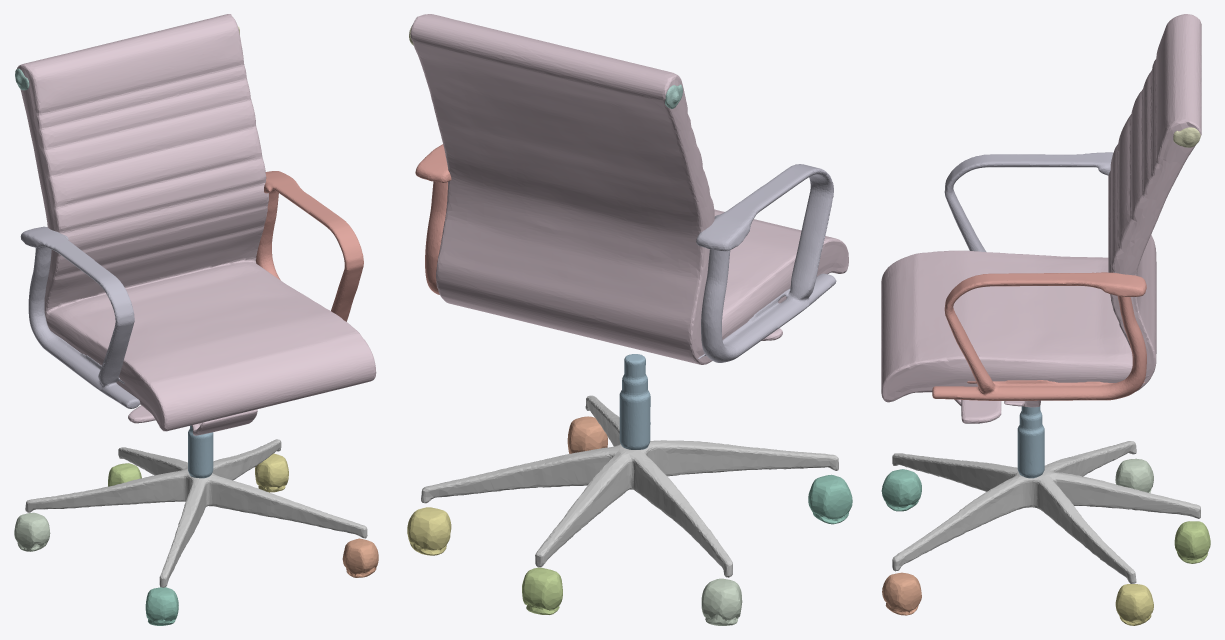
File: swivelchair.glb
3 views of the same model, side by side, from view 1: azimuth 30°, elevation 25°; view 2: azimuth 150°, elevation 25°; view 3: azimuth 270°, elevation 25° (orthographic). The views are drawn at different scales.
Parts seen in each view (by area): view 1: swivelchair_1.obj_7, swivelchair_1.obj_8, swivelchair_1.obj_2, swivelchair_1.obj_3, swivelchair_1.obj_13, swivelchair_1.obj_10, swivelchair_1.obj_4, swivelchair_1.obj_12, swivelchair_1.obj_11, swivelchair_1.obj_6; view 2: swivelchair_1.obj_7, swivelchair_1.obj_8, swivelchair_1.obj_2, swivelchair_1.obj_4, swivelchair_1.obj_3, swivelchair_1.obj_11, swivelchair_1.obj_12, swivelchair_1.obj_10, swivelchair_1.obj_6, swivelchair_1.obj_13; view 3: swivelchair_1.obj_7, swivelchair_1.obj_8, swivelchair_1.obj_3, swivelchair_1.obj_2, swivelchair_1.obj_4, swivelchair_1.obj_13, swivelchair_1.obj_12, swivelchair_1.obj_11, swivelchair_1.obj_6, swivelchair_1.obj_10.
Part boxes in pixels (left/top/right/bottom): swivelchair_1.obj_7: left=17, top=14, right=376, bottom=435; swivelchair_1.obj_8: left=25, top=439, right=367, bottom=587; swivelchair_1.obj_2: left=20, top=226, right=140, bottom=408; swivelchair_1.obj_3: left=256, top=171, right=363, bottom=321; swivelchair_1.obj_13: left=342, top=538, right=378, bottom=577; swivelchair_1.obj_10: left=14, top=512, right=50, bottom=551; swivelchair_1.obj_4: left=188, top=425, right=213, bottom=478; swivelchair_1.obj_12: left=145, top=587, right=178, bottom=625; swivelchair_1.obj_11: left=255, top=453, right=288, bottom=492; swivelchair_1.obj_6: left=108, top=463, right=141, bottom=486; swivelchair_1.obj_7: left=410, top=14, right=848, bottom=364; swivelchair_1.obj_8: left=421, top=395, right=838, bottom=577; swivelchair_1.obj_2: left=696, top=164, right=836, bottom=362; swivelchair_1.obj_4: left=619, top=354, right=650, bottom=449; swivelchair_1.obj_3: left=415, top=144, right=451, bottom=294; swivelchair_1.obj_11: left=407, top=507, right=451, bottom=555; swivelchair_1.obj_12: left=808, top=474, right=852, bottom=524; swivelchair_1.obj_10: left=701, top=578, right=742, bottom=625; swivelchair_1.obj_6: left=522, top=567, right=562, bottom=614; swivelchair_1.obj_13: left=567, top=416, right=607, bottom=453; swivelchair_1.obj_7: left=881, top=14, right=1201, bottom=423; swivelchair_1.obj_8: left=892, top=441, right=1200, bottom=583; swivelchair_1.obj_3: left=932, top=272, right=1146, bottom=400; swivelchair_1.obj_2: left=944, top=152, right=1113, bottom=251; swivelchair_1.obj_4: left=1017, top=406, right=1044, bottom=478; swivelchair_1.obj_13: left=882, top=572, right=921, bottom=615; swivelchair_1.obj_12: left=881, top=469, right=921, bottom=511; swivelchair_1.obj_11: left=1115, top=584, right=1153, bottom=625; swivelchair_1.obj_6: left=1174, top=521, right=1210, bottom=563; swivelchair_1.obj_10: left=1115, top=458, right=1153, bottom=492.
Size of the model in its own units: 1.16 by 1.89 by 1.14.
